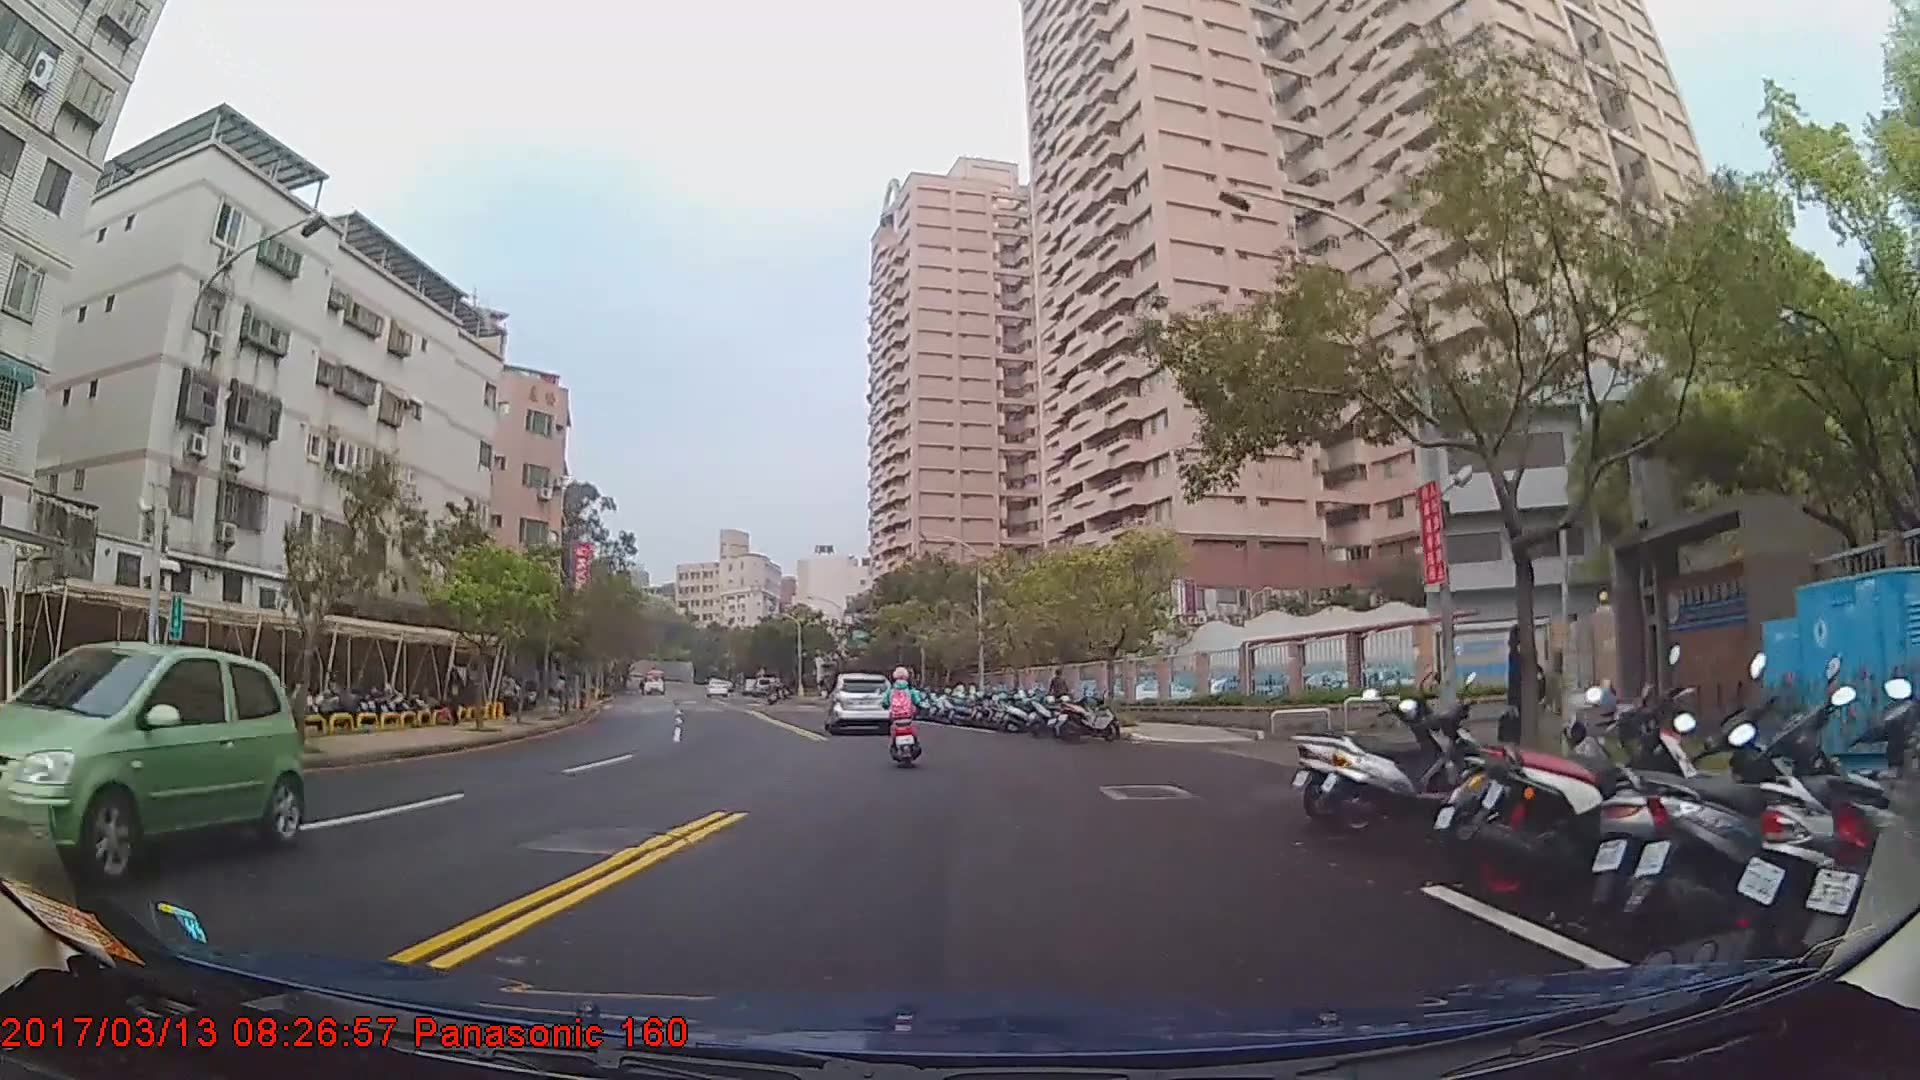pedestrian: (1507, 624, 1546, 769), (444, 668, 470, 727), (1052, 669, 1072, 725)
rider: (882, 669, 926, 766)
vehicle: (0, 640, 304, 881), (822, 673, 894, 738), (640, 666, 669, 695)
